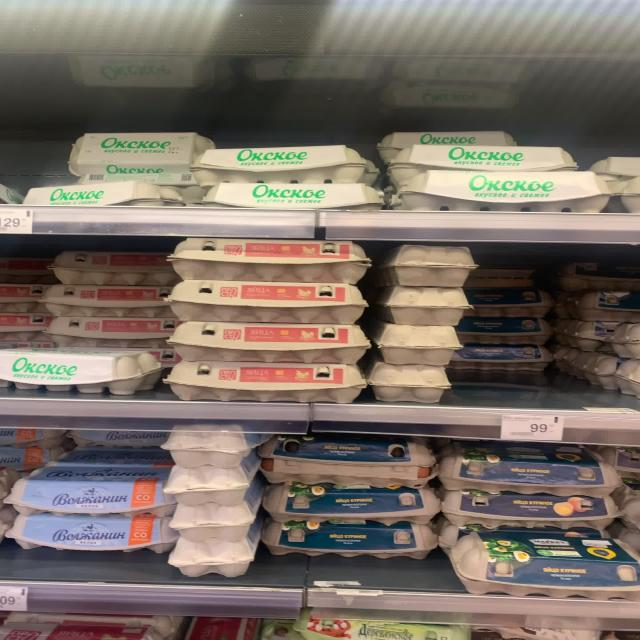egg box: (448, 521, 638, 601), (389, 167, 616, 213), (167, 276, 365, 328), (162, 316, 368, 364), (256, 432, 439, 484), (169, 236, 367, 283), (438, 448, 624, 498), (162, 354, 364, 400), (7, 465, 172, 519), (256, 516, 437, 559), (69, 125, 218, 177), (441, 486, 617, 530), (0, 344, 158, 392), (265, 482, 441, 525), (193, 144, 374, 184), (5, 513, 168, 555), (195, 176, 384, 211), (389, 141, 575, 173), (37, 281, 168, 320), (38, 312, 168, 345)
